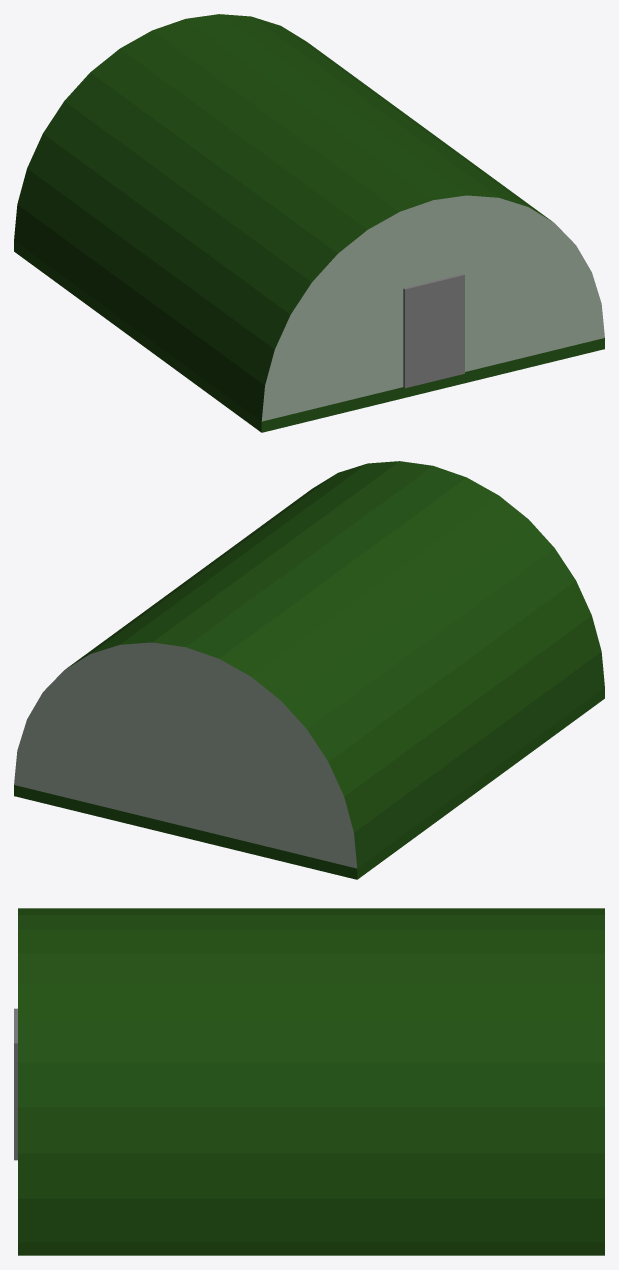
The model's file is barrack_1.BjMybKM-.glb.
3 renders of one model, top to bottom at view 1: azimuth 30°, elevation 25°; view 2: azimuth 150°, elevation 25°; view 3: azimuth 270°, elevation 25°, orthographic. The views are drawn at different scales.
Visible parts, largest first — view 1: Zylinder, Würfel; view 2: Zylinder; view 3: Zylinder, Würfel.
Boxes of the visible parts, x1,y1,x2,y2 form: Zylinder: [14, 14, 604, 432]; Würfel: [403, 273, 464, 388]; Zylinder: [14, 461, 604, 879]; Zylinder: [18, 908, 604, 1255]; Würfel: [14, 1008, 17, 1160].
Size of the model in its own units: 0.8 by 0.425 by 1.01.
